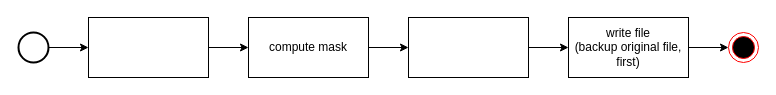
Some shapes in this 776 by 95 pixel diagram are drawn without their labels. Here are the shapes that lost their labels. From the top down, the centre of each, then its label:
At point 148,47: "load file".
At point 468,47: "apply actions".
